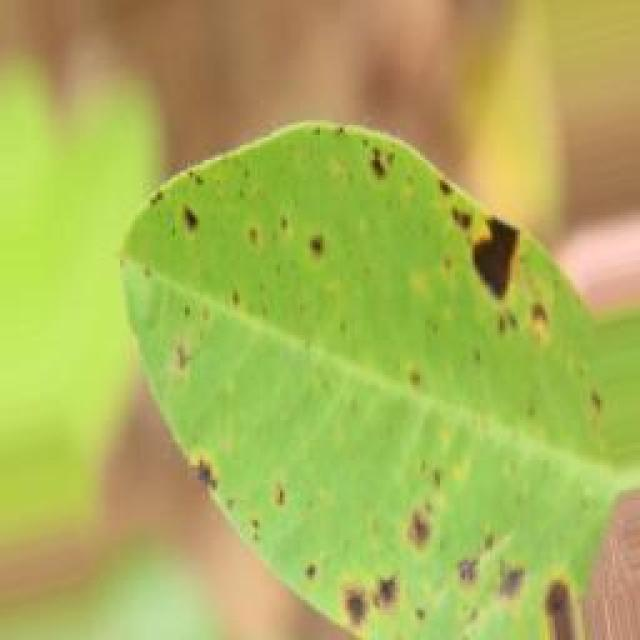Yellowish: (108, 106, 613, 640)
